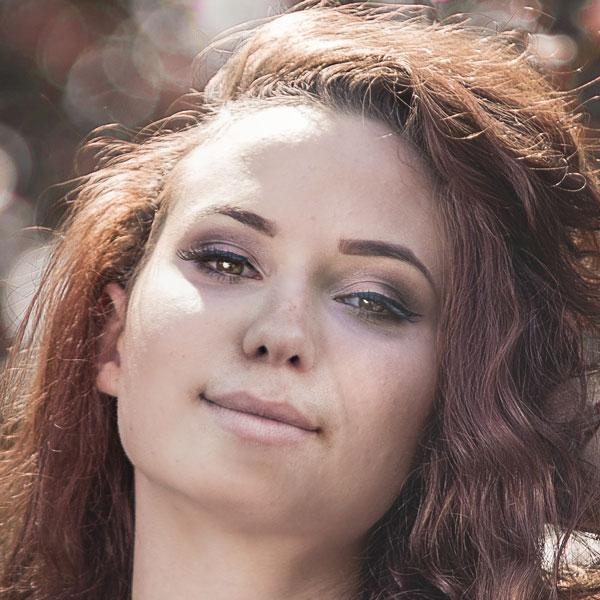Eyes: (322, 262, 421, 338), (172, 229, 271, 294)
